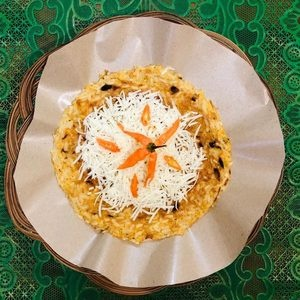kerak_telor: (50, 66, 235, 246)
